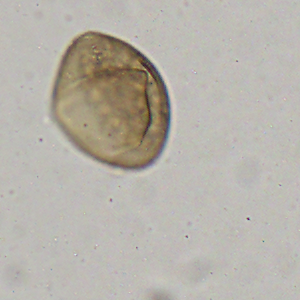Fasciola_hepatica_egg: (49, 29, 172, 174)
